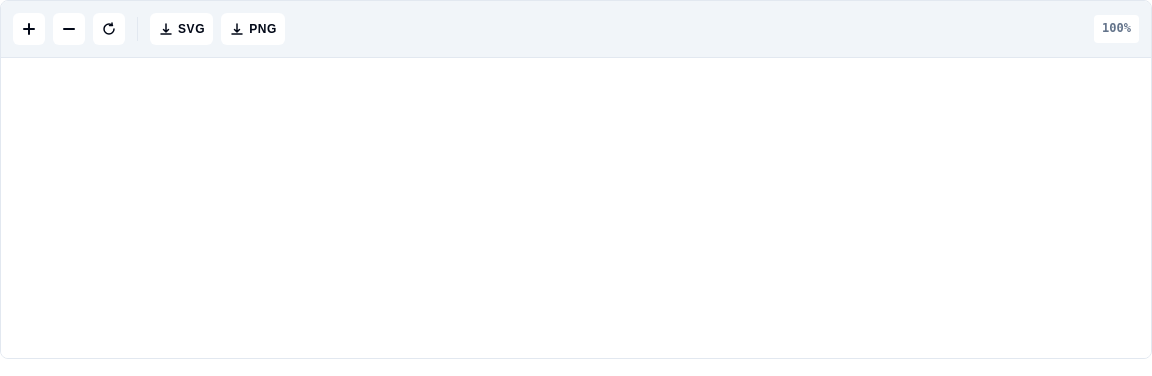
Test: MermaidDiagram › Zoom functionality › should reset zoom when reset button is clicked
expect the text "100%" is shown: met, box [1094, 15, 1139, 43]
// Zoom in first
Click the button named "zoom in". click: (29, 29)
box: [13, 13, 45, 45]
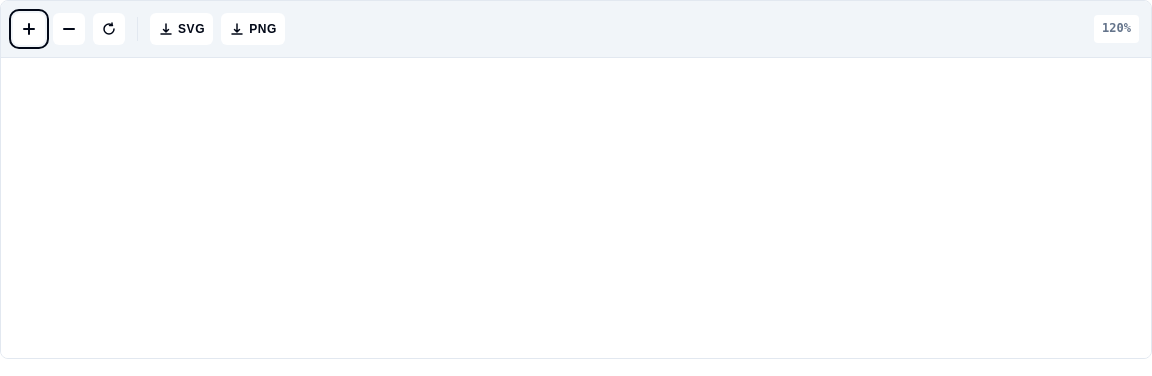
expect the text "120%" is shown: met, box [1094, 15, 1139, 43]
Click the button named "reset view". click: (109, 29)
box: [93, 13, 125, 45]
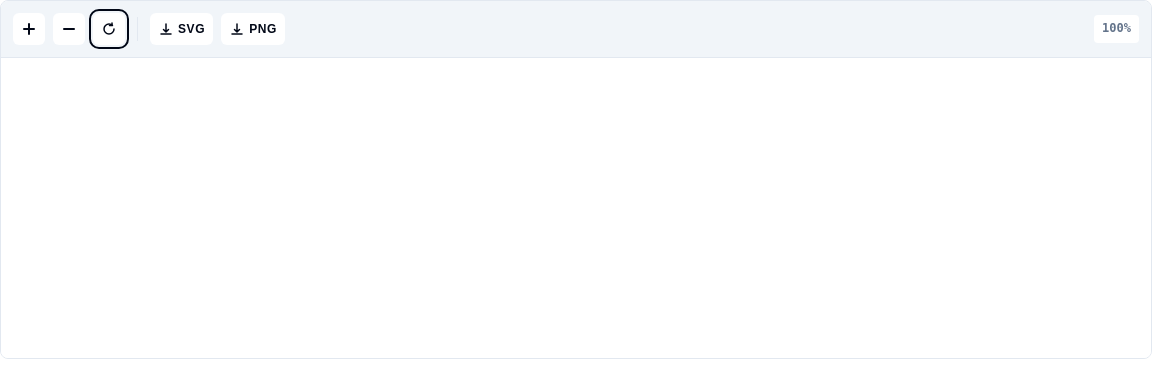
expect the text "100%" is shown: met, box [1094, 15, 1139, 43]
